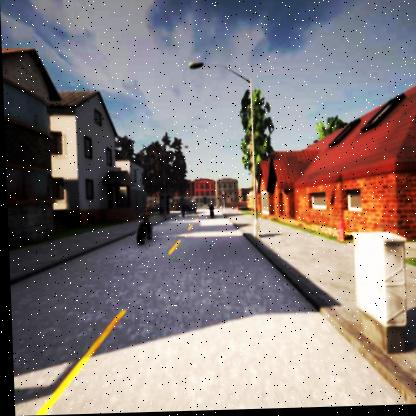motobike: (135, 206, 152, 244)
